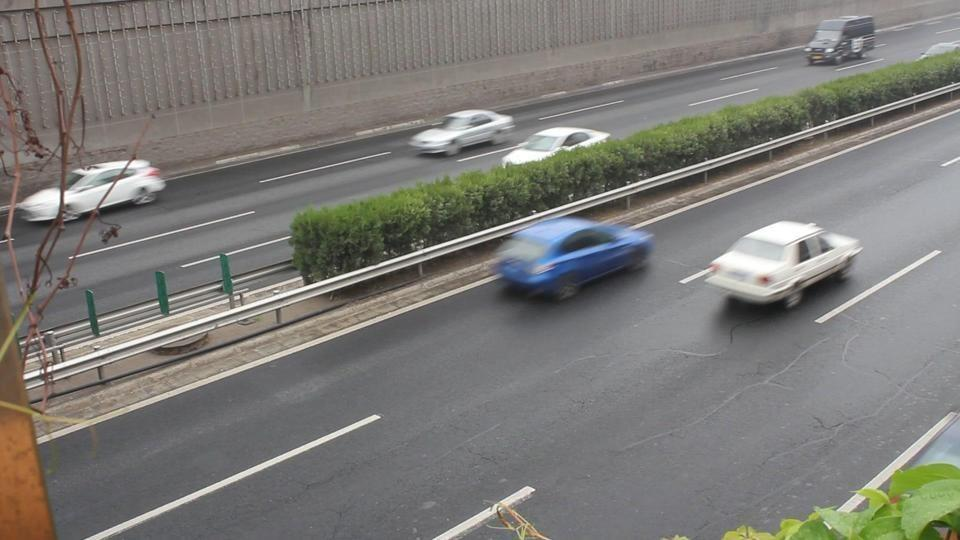car: (492, 214, 656, 303), (705, 220, 864, 309), (15, 159, 165, 224), (409, 108, 516, 158), (501, 127, 611, 167)
